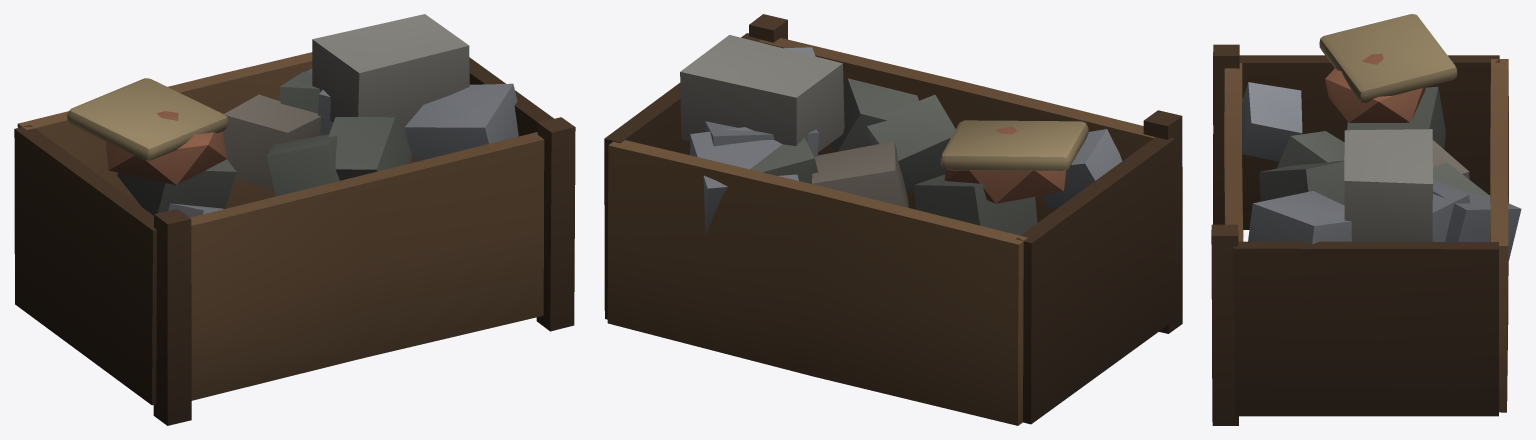
The model's file is ph_int_stone_bin.glb.
The picture shows the model from 3 angles, left to right: view 1: azimuth 30°, elevation 25°; view 2: azimuth 150°, elevation 25°; view 3: azimuth 270°, elevation 25°; orthographic projection. The views are drawn at different scales.
Visible parts, largest first — view 1: ph_int_stone_bin; view 2: ph_int_stone_bin; view 3: ph_int_stone_bin.
Boxes of the visible parts, x1,y1,x2,y2 form: ph_int_stone_bin: [14, 14, 575, 425]; ph_int_stone_bin: [604, 14, 1182, 425]; ph_int_stone_bin: [1211, 14, 1521, 425].
Size of the model in its own units: 1.04 by 0.575 by 0.7028.
